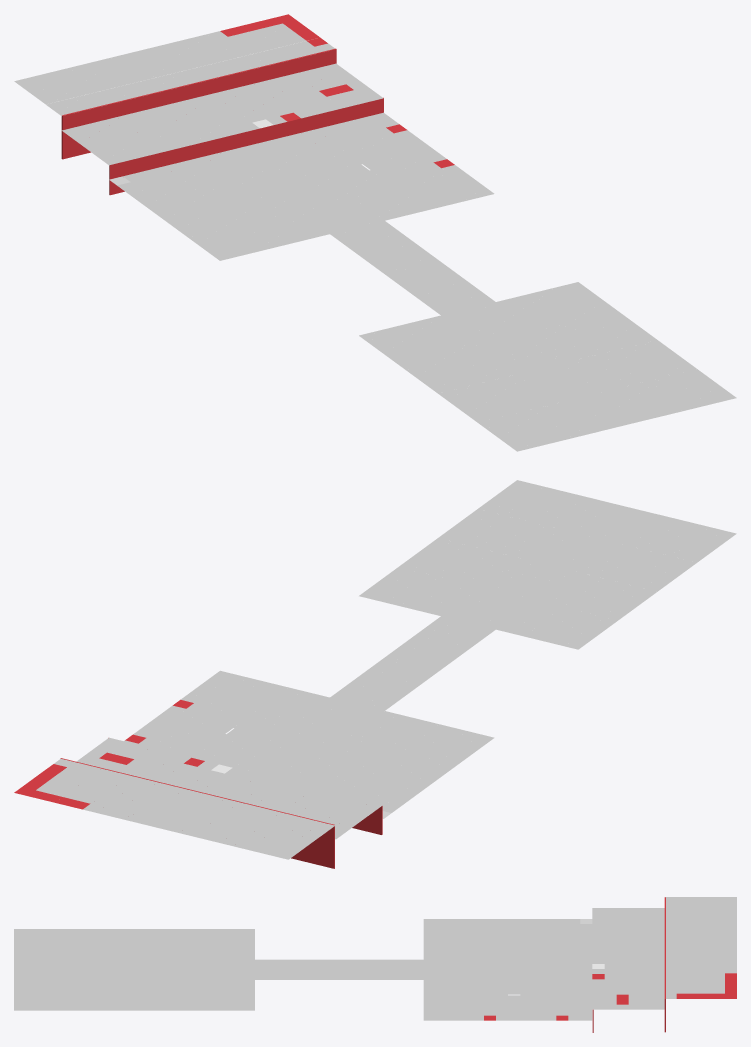
Rendered from Floor.fbx.
3 renders of one model, top to bottom at view 1: azimuth 30°, elevation 25°; view 2: azimuth 150°, elevation 25°; view 3: azimuth 270°, elevation 25°, orthographic. The views are drawn at different scales.
Visible parts, largest first — view 1: Cubo.005, Cubo.006; view 2: Cubo.005; view 3: Cubo.005.
Boxes of the visible parts, x1,y1,x2,y2 form: Cubo.005: (61,48,336,159); Cubo.006: (109,97,383,195); Cubo.005: (60,758,334,868); Cubo.005: (664,897,665,1032).
Size of the model in its own units: 9978 by 1549 by 29880.
